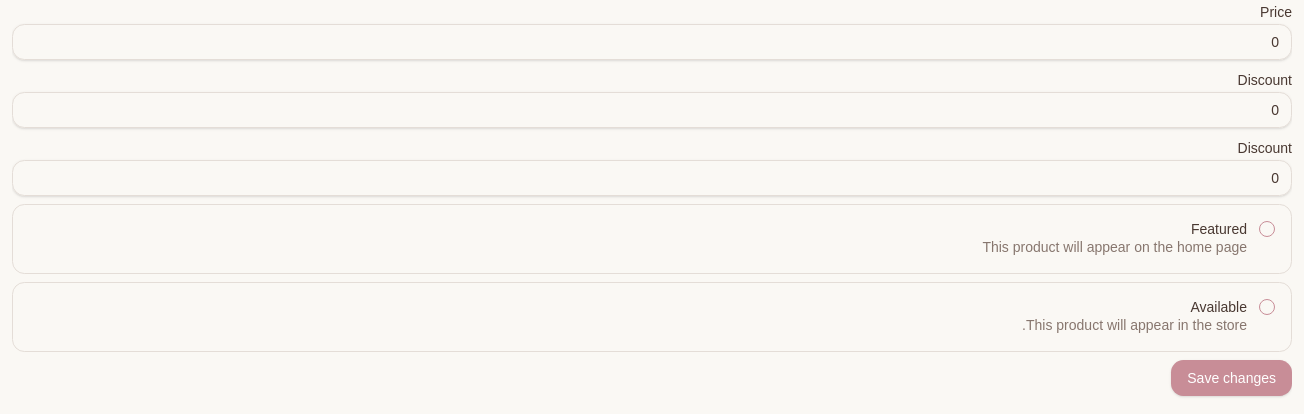
Test case: profile OrderForm › toggles the checkboxes
Step 1. Click the checkbox next to "Featured" → (1267,229), box x1=1259 y1=221 x2=1275 y2=237
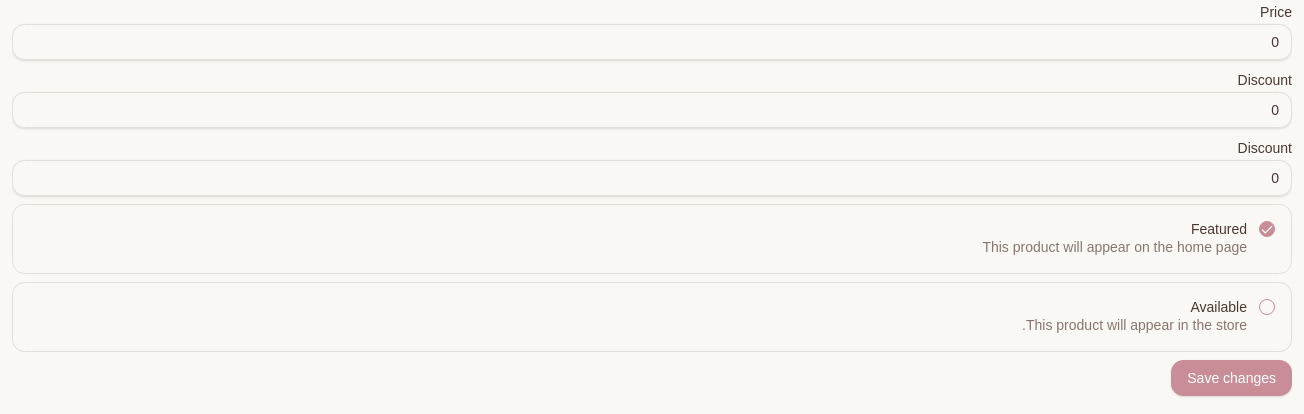
Check: the checkbox next to "Featured" has attribute data-state="checked", box x1=1259 y1=221 x2=1275 y2=237
